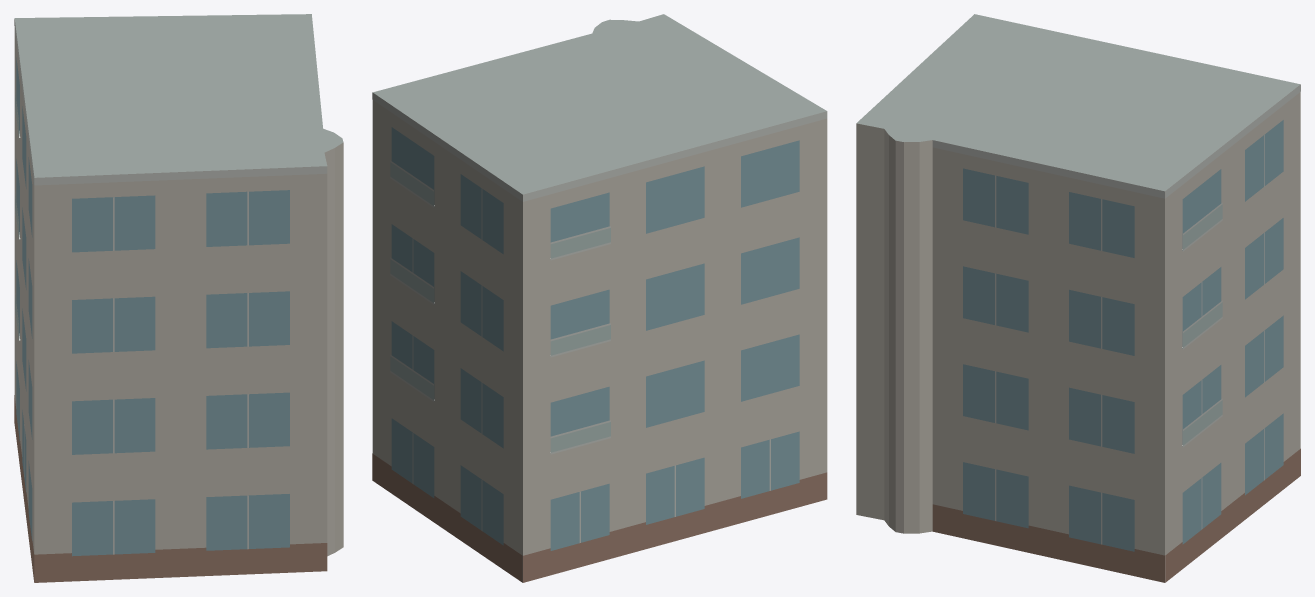
The model's file is survey-upis-32909548.glb.
The picture shows the model from 3 angles, left to right: view 1: azimuth 30°, elevation 25°; view 2: azimuth 150°, elevation 25°; view 3: azimuth 270°, elevation 25°; orthographic projection. The views are drawn at different scales.
Parts seen in each view (by area): view 1: survey-upis-32909548.tmp; view 2: survey-upis-32909548.tmp; view 3: survey-upis-32909548.tmp.
Boxes of the visible parts, left/top/right/bottom form: survey-upis-32909548.tmp: left=14, top=14, right=343, bottom=582; survey-upis-32909548.tmp: left=372, top=14, right=827, bottom=582; survey-upis-32909548.tmp: left=856, top=14, right=1300, bottom=582.
Bounding box in the file's own units: 12.64 × 13 × 13.39.
